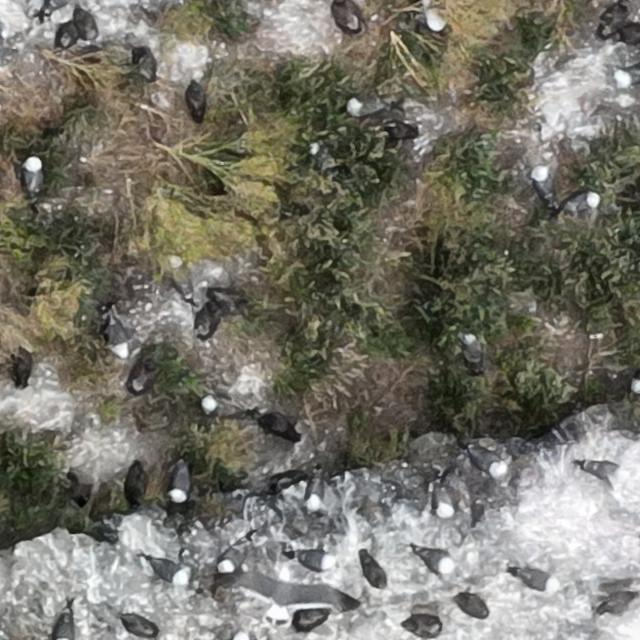F: (232, 560, 344, 628)
umineko: (215, 536, 252, 572), (466, 446, 506, 477), (531, 167, 560, 208), (169, 255, 193, 299), (147, 560, 185, 582), (109, 316, 128, 358), (416, 549, 452, 570), (516, 570, 552, 590), (434, 483, 455, 517), (363, 558, 386, 589), (291, 550, 329, 568), (582, 462, 621, 479), (565, 192, 598, 212), (456, 597, 487, 618), (170, 465, 189, 499), (305, 475, 324, 509), (23, 156, 41, 188), (350, 96, 382, 114), (422, 8, 444, 32), (464, 333, 481, 362), (54, 616, 72, 640), (202, 396, 219, 414), (631, 376, 639, 394)
